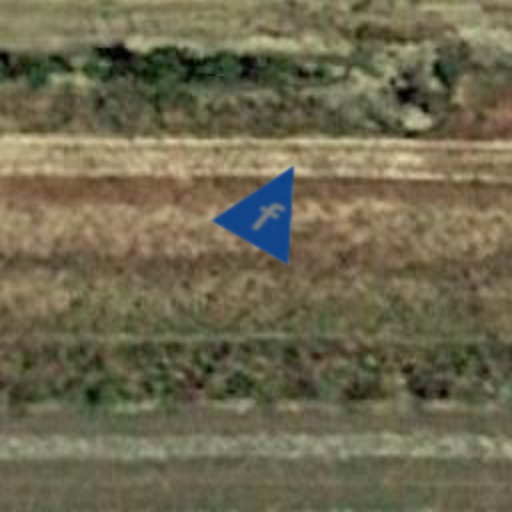triangle: (210, 142, 334, 266)
